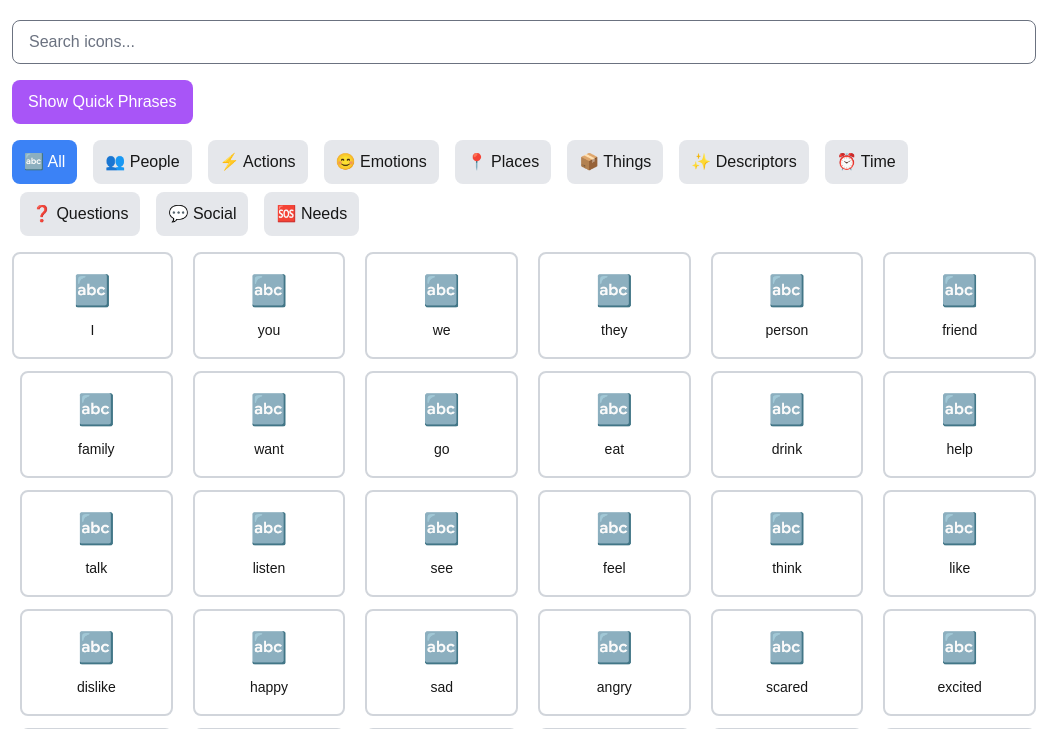
it: AACIconSelector › Complexity levels › should display complexity level buttons
# Add an icon to generate sentence
Step 1. Click the button named "add I to sentence" → (92, 306), box x1=12 y1=252 x2=173 y2=359
(page scrolled)
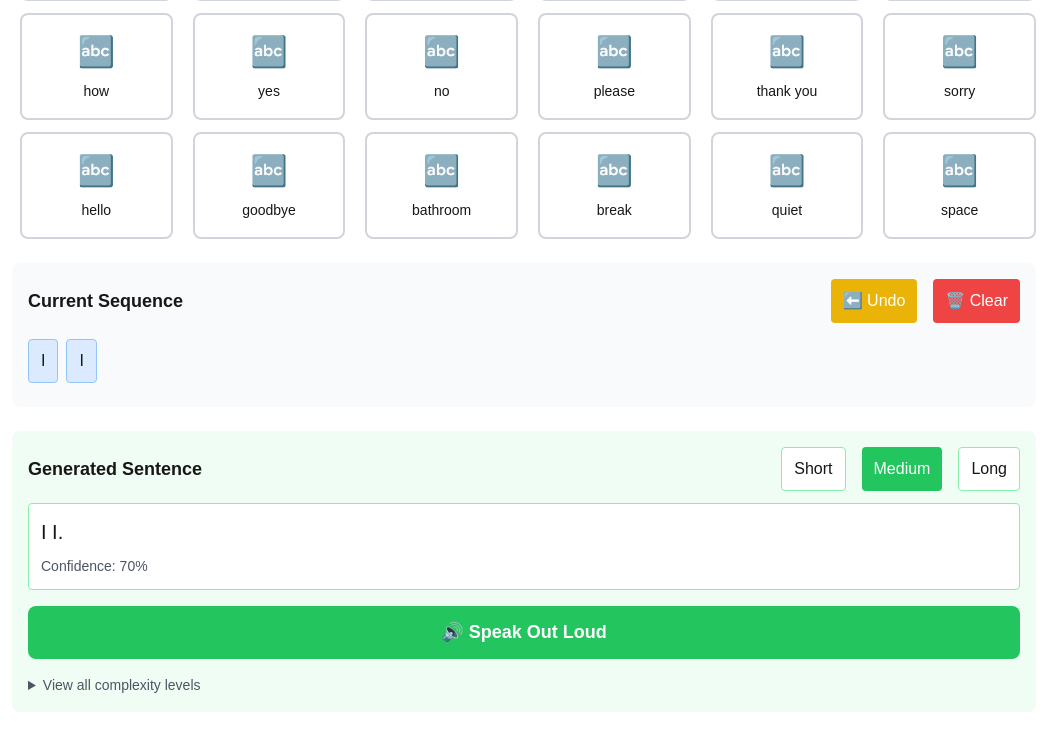
Expected: the radio button with aria-label "short complexity" is shown, x1=781 y1=447 x2=846 y2=491
Expected: the radio button with aria-label "medium complexity" is shown, x1=862 y1=447 x2=942 y2=491
Expected: the radio button with aria-label "long complexity" is shown, x1=958 y1=447 x2=1020 y2=491
